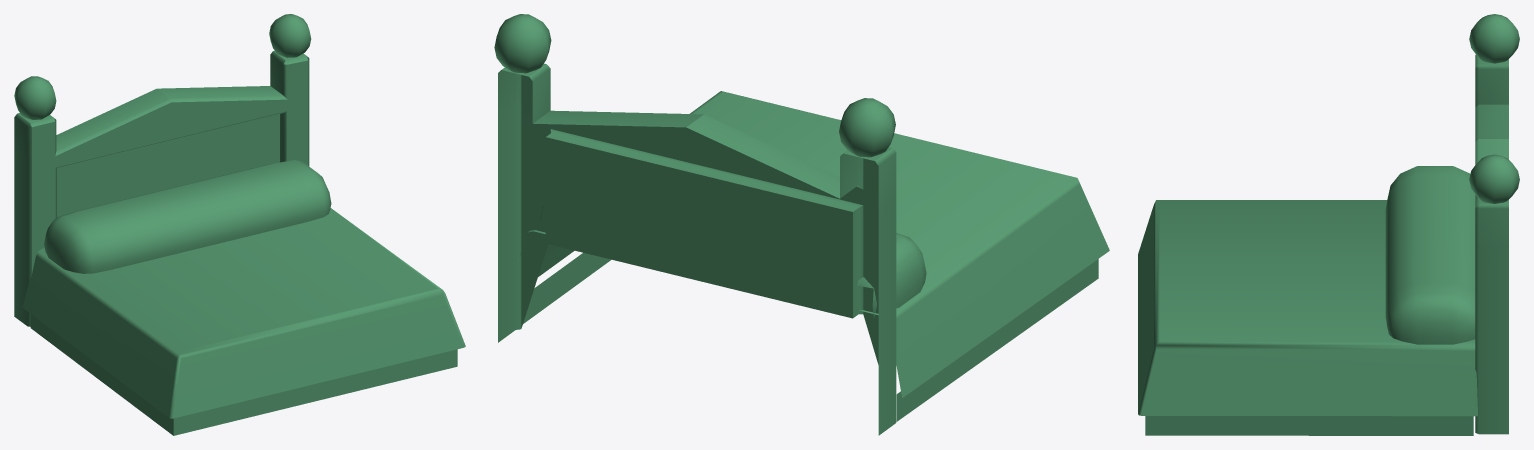
The model's file is Bed_V5.fbx.
3 renders of one model, left to right at view 1: azimuth 30°, elevation 25°; view 2: azimuth 150°, elevation 25°; view 3: azimuth 270°, elevation 25°, orthographic. The views are drawn at different scales.
Visible parts, largest first — view 1: Bed; view 2: Bed; view 3: Bed.
Boxes of the visible parts, x1,y1,x2,y2 form: Bed: (14, 14, 465, 435); Bed: (494, 14, 1109, 435); Bed: (1138, 14, 1519, 435).
Size of the model in its own units: 368 by 285 by 363.
